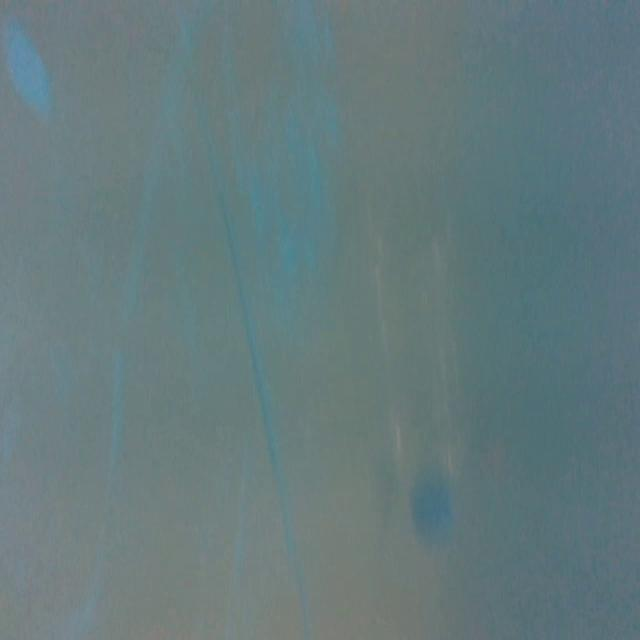plastic bottle: (357, 183, 484, 537)
